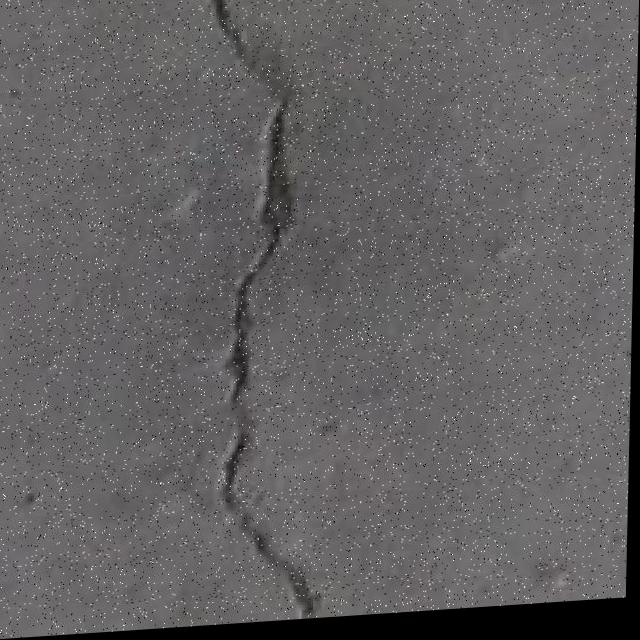Crack: (172, 0, 343, 630)
